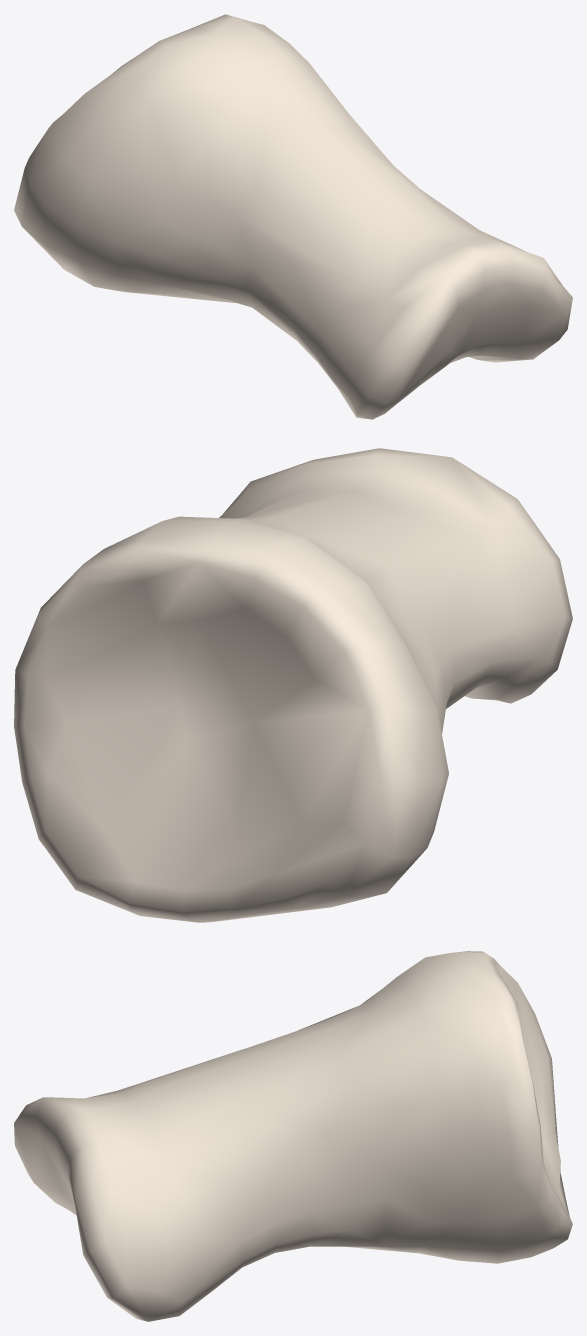
Rendered from left_toe_1_proximal.glb.
3 views of the same model, one above another, from view 1: azimuth 30°, elevation 25°; view 2: azimuth 150°, elevation 25°; view 3: azimuth 270°, elevation 25° (orthographic). The views are drawn at different scales.
Parts seen in each view (by area): view 1: Proximal phalanx of first finger of foot.r; view 2: Proximal phalanx of first finger of foot.r; view 3: Proximal phalanx of first finger of foot.r.
Part boxes in pixels (x1,y1,x2,y2): Proximal phalanx of first finger of foot.r: (14, 14, 572, 419); Proximal phalanx of first finger of foot.r: (14, 448, 572, 922); Proximal phalanx of first finger of foot.r: (14, 951, 572, 1321).
Size of the model in its own units: 0.0244 by 0.0172 by 0.032.
